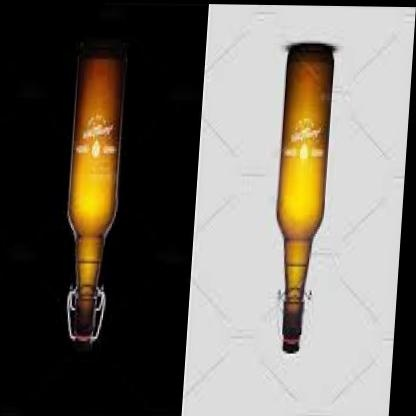trash: (277, 44, 333, 352), (67, 47, 124, 342)
